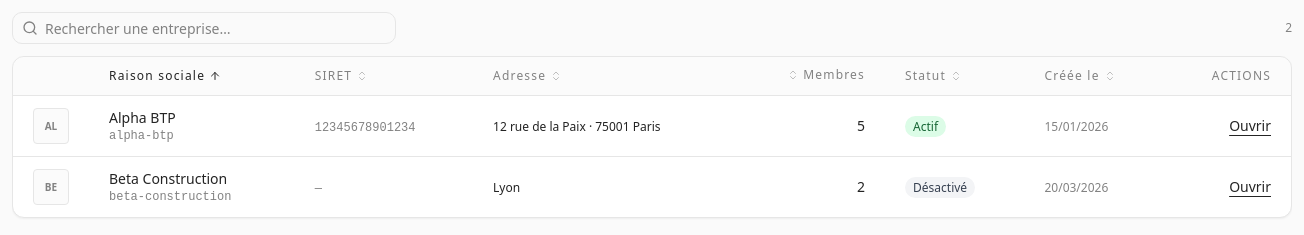
EntreprisesTable › recherche › filtre par SIRET
In the search field labelled "Rechercher": (204, 28) 12,12 -> 396,44, type "1234567"
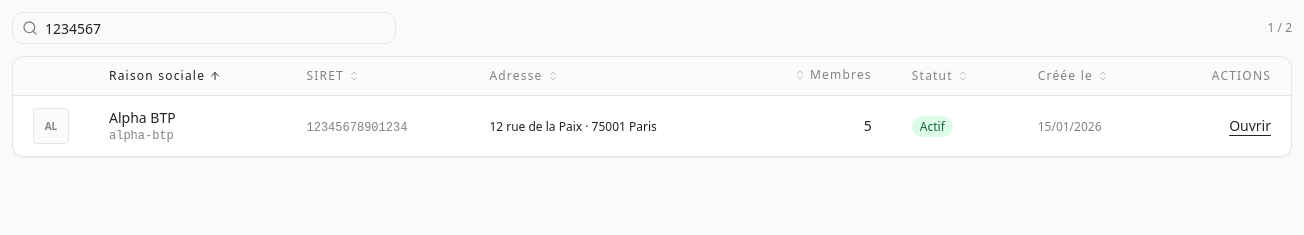
Expected: the text "Alpha BTP" is shown, 109,108 -> 176,127
Expected: the text "Beta Construction" is gone
